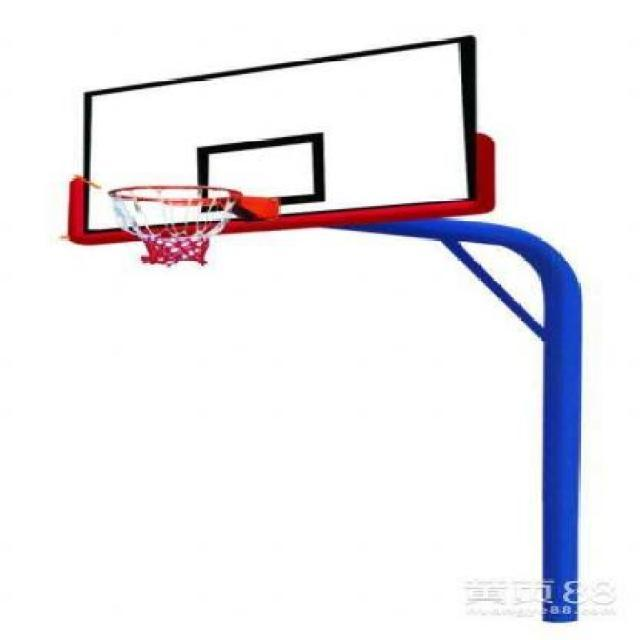rim: (105, 184, 242, 268)
